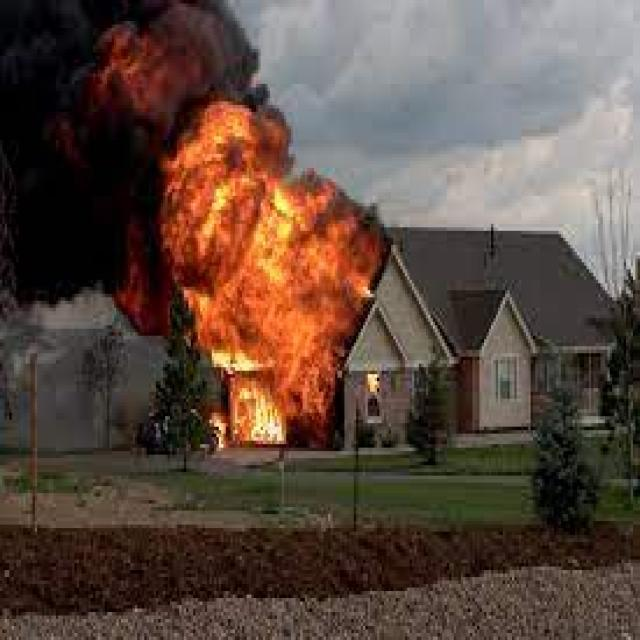Fire: (174, 130, 346, 363)
Smoke: (0, 0, 172, 311), (167, 0, 290, 150)
